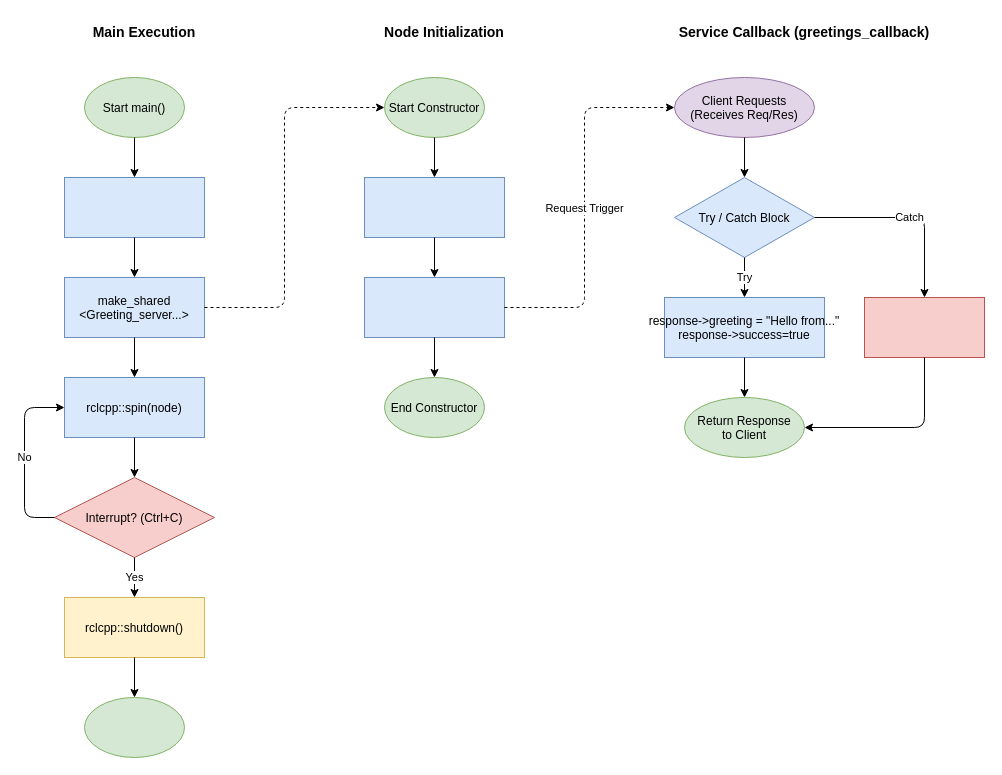
This 1002x775 diagram has some shape labels left out. Here are the shapes that lost their labels. From the top down, the centre of each, then its label:
the point at 134,207: rclcpp::init
the point at 434,207: Log Node Started
the point at 434,307: create_service "greetings"
the point at 924,327: Log Error success=false
the point at 134,727: End
